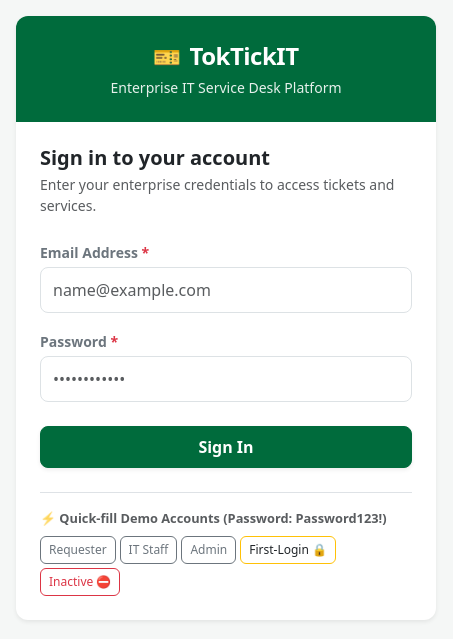
Lab 3 LoginScreen Component (UI-01, BR-01, AC-01, AC-02) › populates form when demo account button is clicked
The image size is (453, 639).
Click the button "Requester".
click(78, 550)  # box [40, 536, 116, 564]
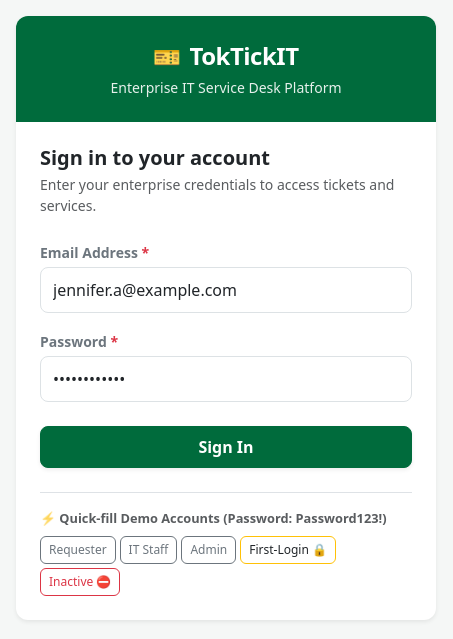
Check: the field with placeholder "name@example.com" holds "jennifer.a@example.com", box [40, 267, 412, 313]
Check: the password field with placeholder "••••••••••••" holds "Password123!", box [40, 356, 412, 402]
